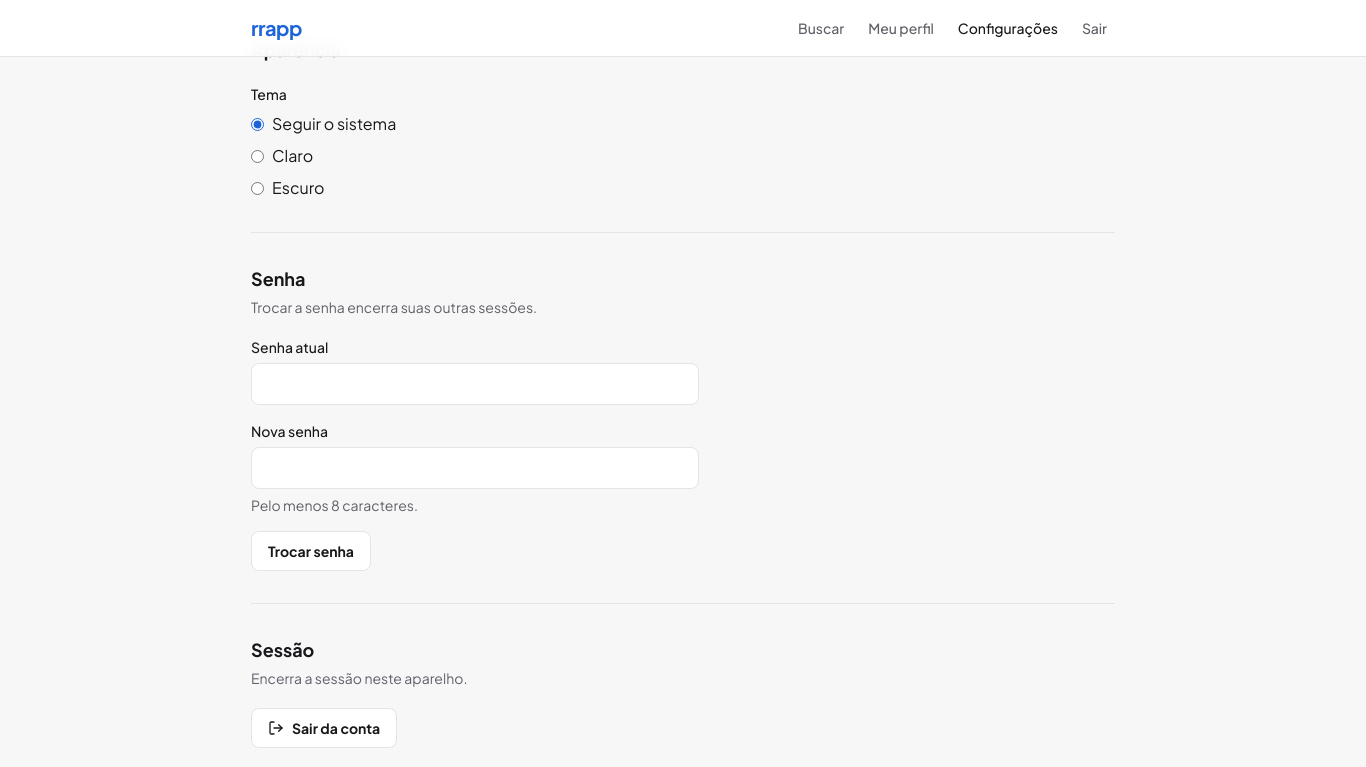
trocar senha guarda o novo acesso
(page scrolled)
Type "senha-forte-123" into the password field labelled "Senha atual" at [475, 384], box [251, 363, 699, 405]
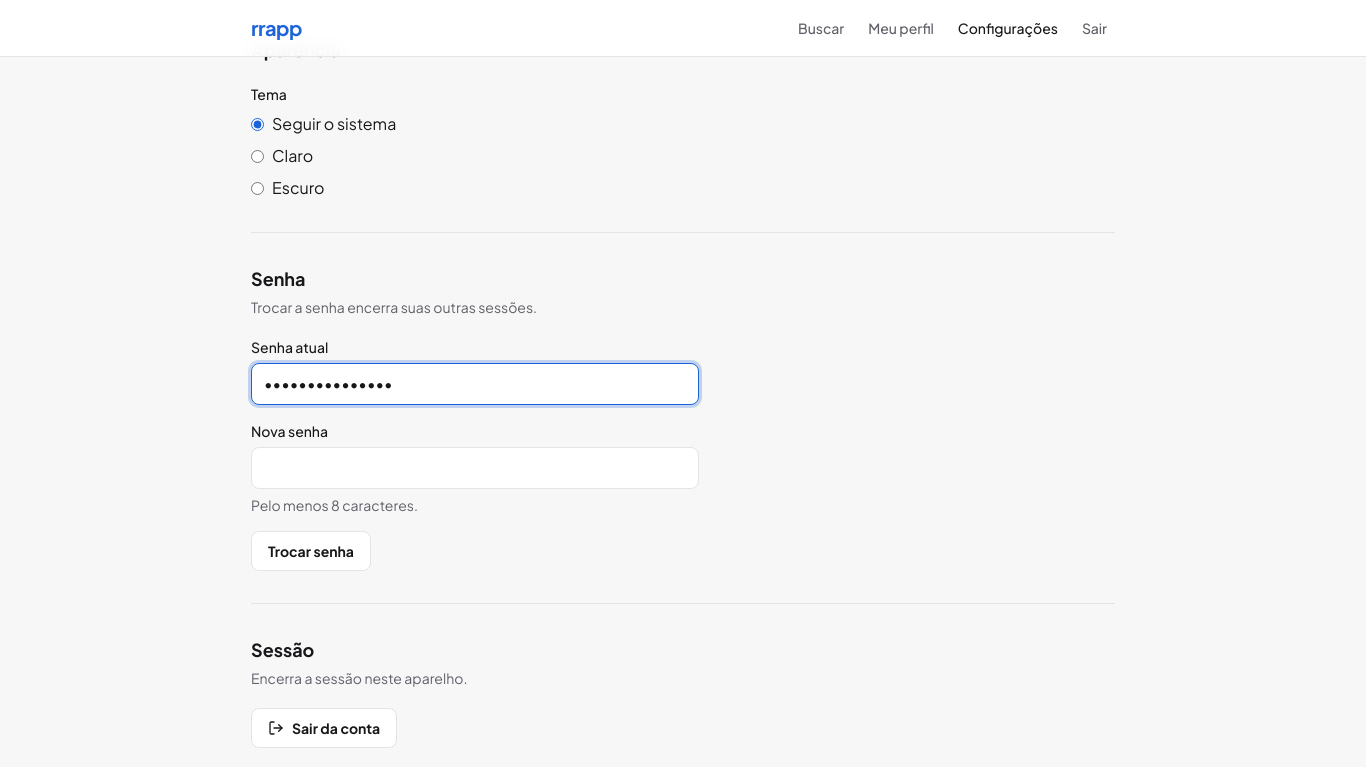
Type "outra-senha-forte" into the password field labelled "Nova senha" at [475, 468], box [251, 447, 699, 489]
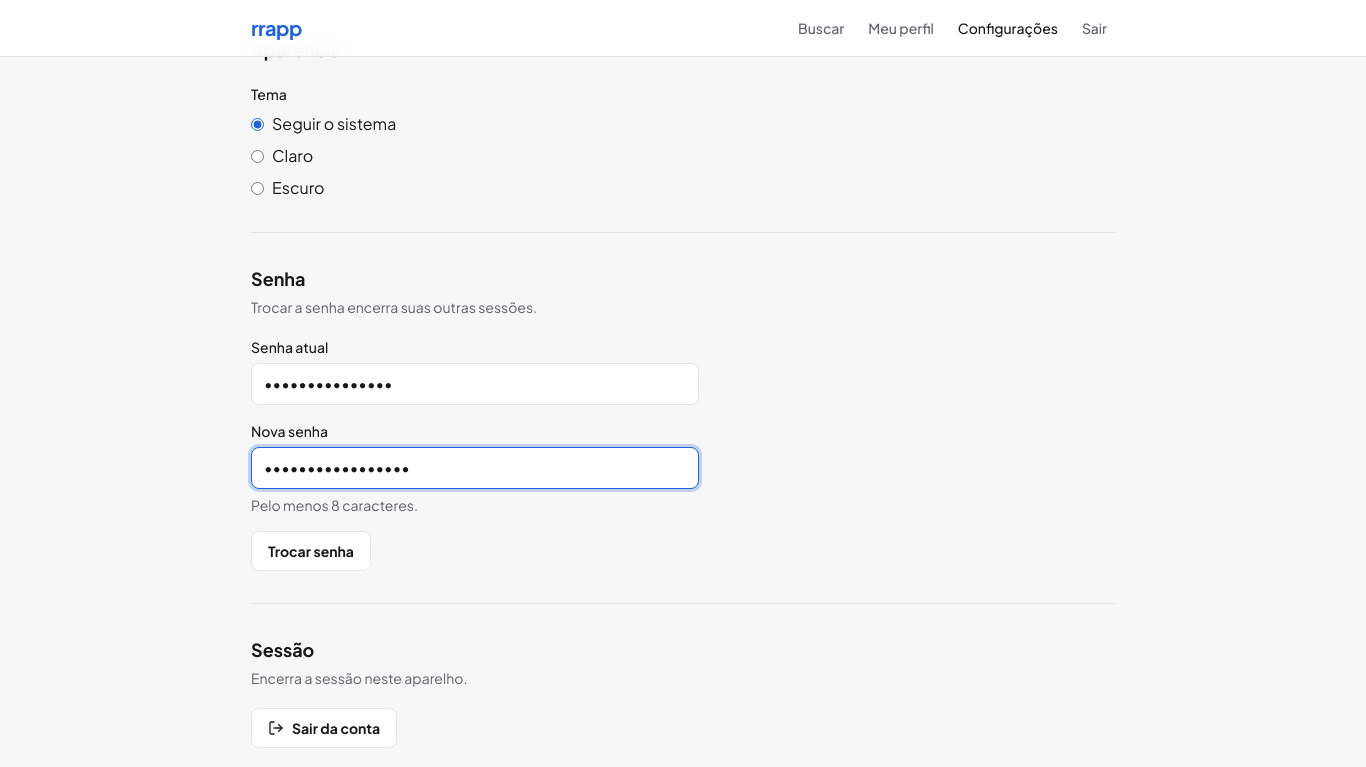
Click the button "Trocar senha" at [311, 551], box [251, 531, 371, 571]
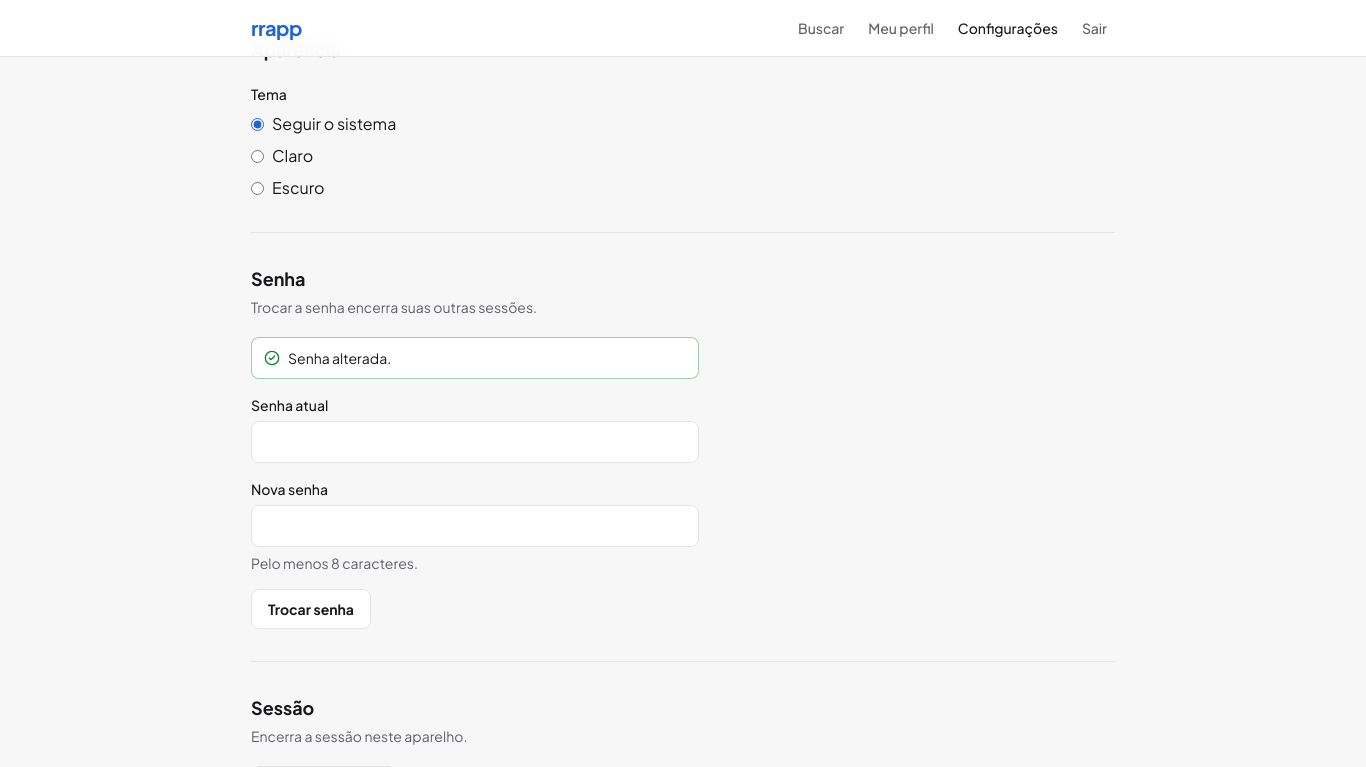
Expected: the text "Senha alterada." is shown, [288, 348, 391, 368]
